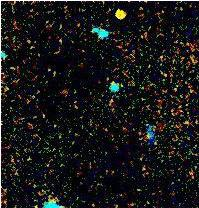star: (103, 0, 133, 27)
